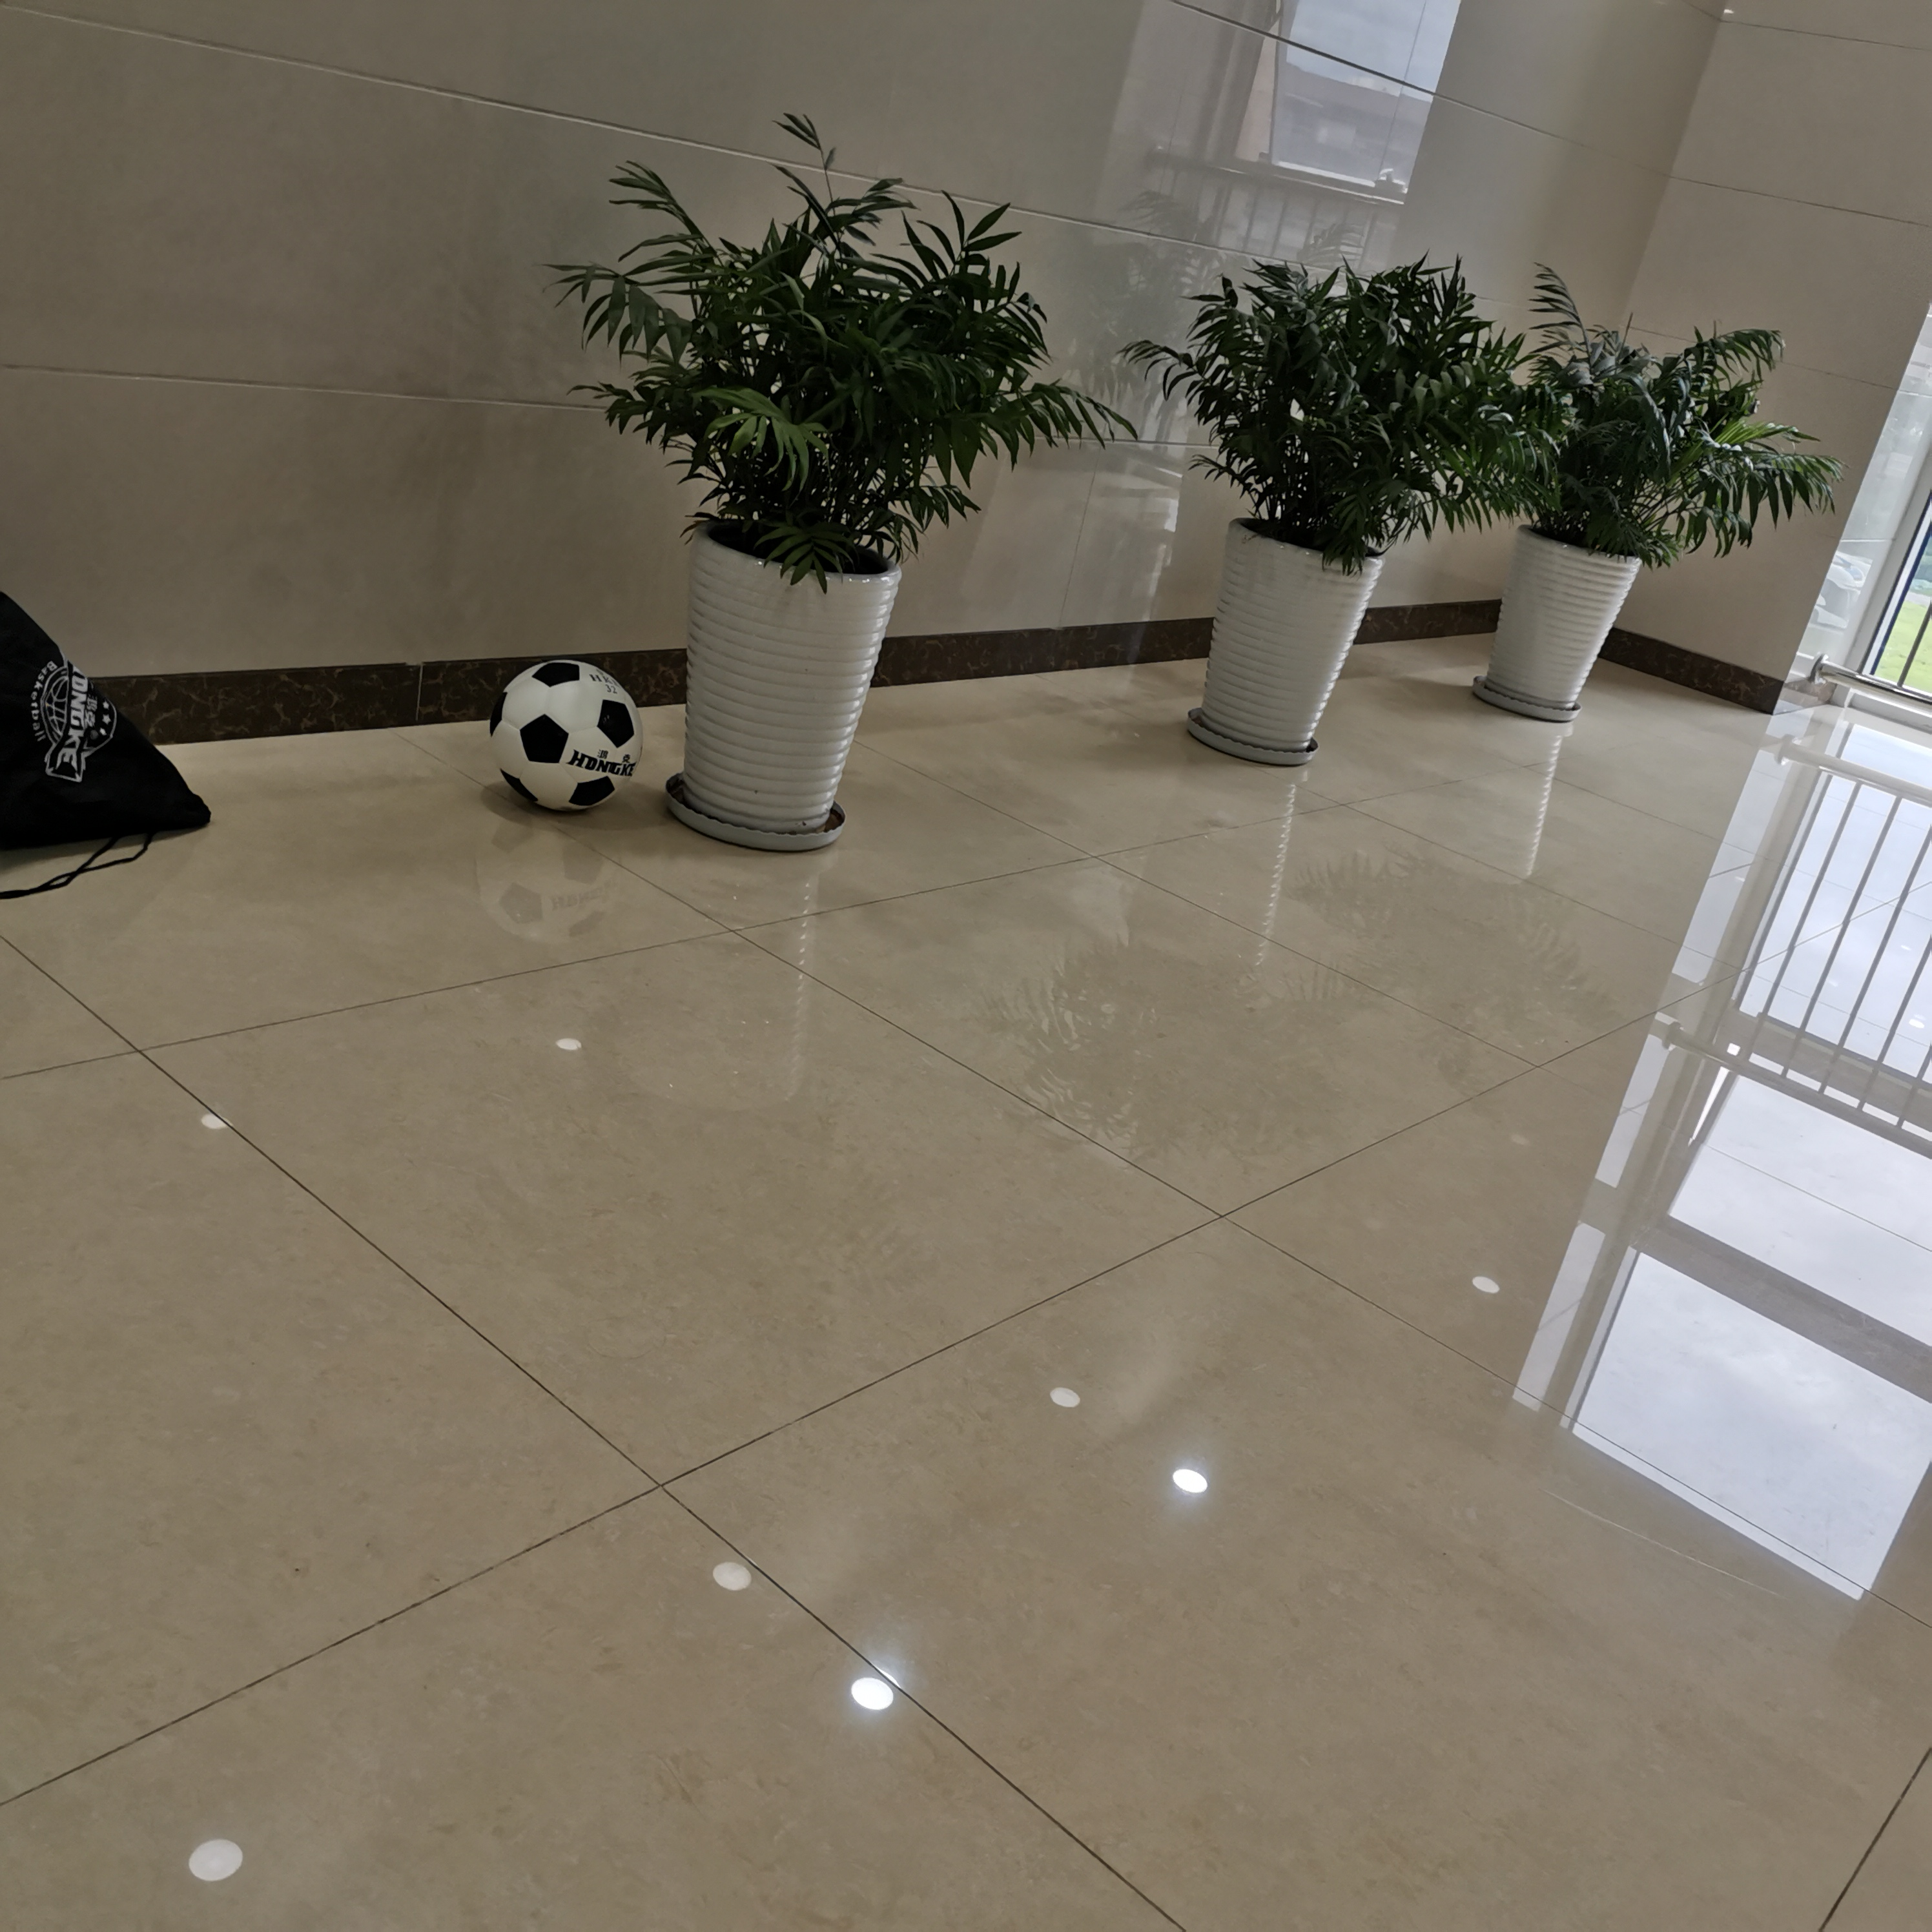football: (488, 660, 642, 809)
